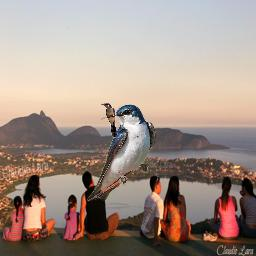Cuckoo: (101, 103, 118, 138)
Swallow: (87, 103, 156, 202)
